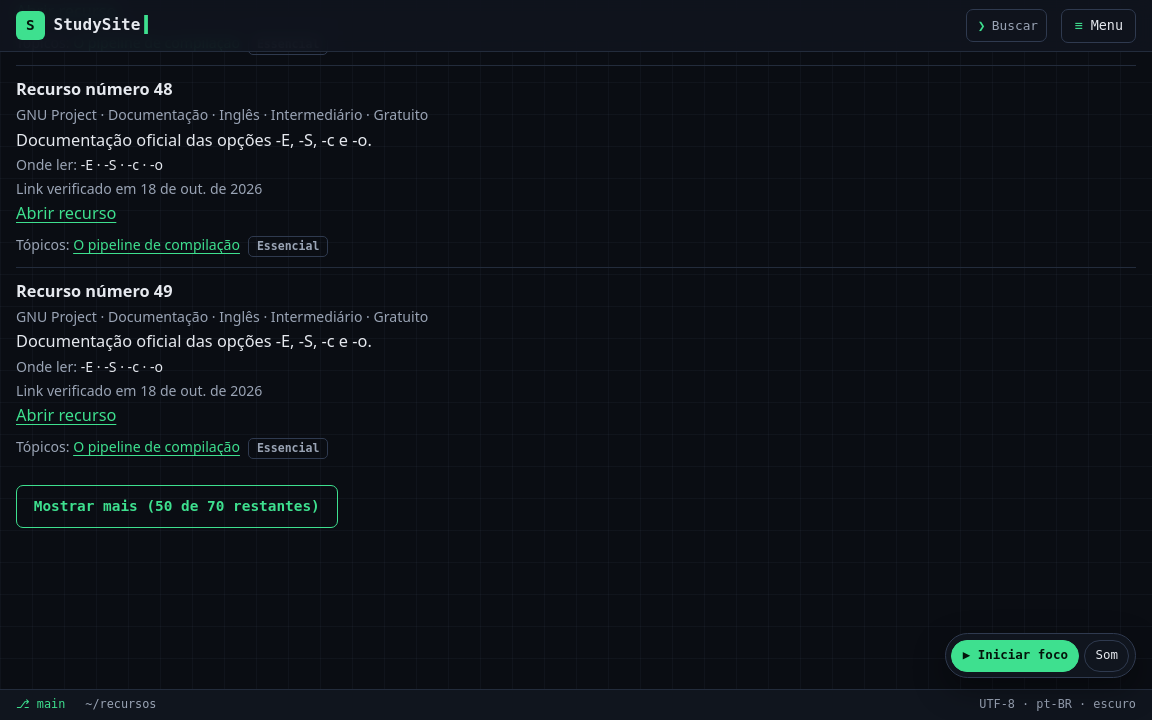
biblioteca de recursos — paginação › mostra 50 por vez e carrega mais sob demanda
(page scrolled)
Click the button "Mostrar mais (50 de 70 restantes)" at (177, 507), box [16,485,338,528]
(page scrolled)
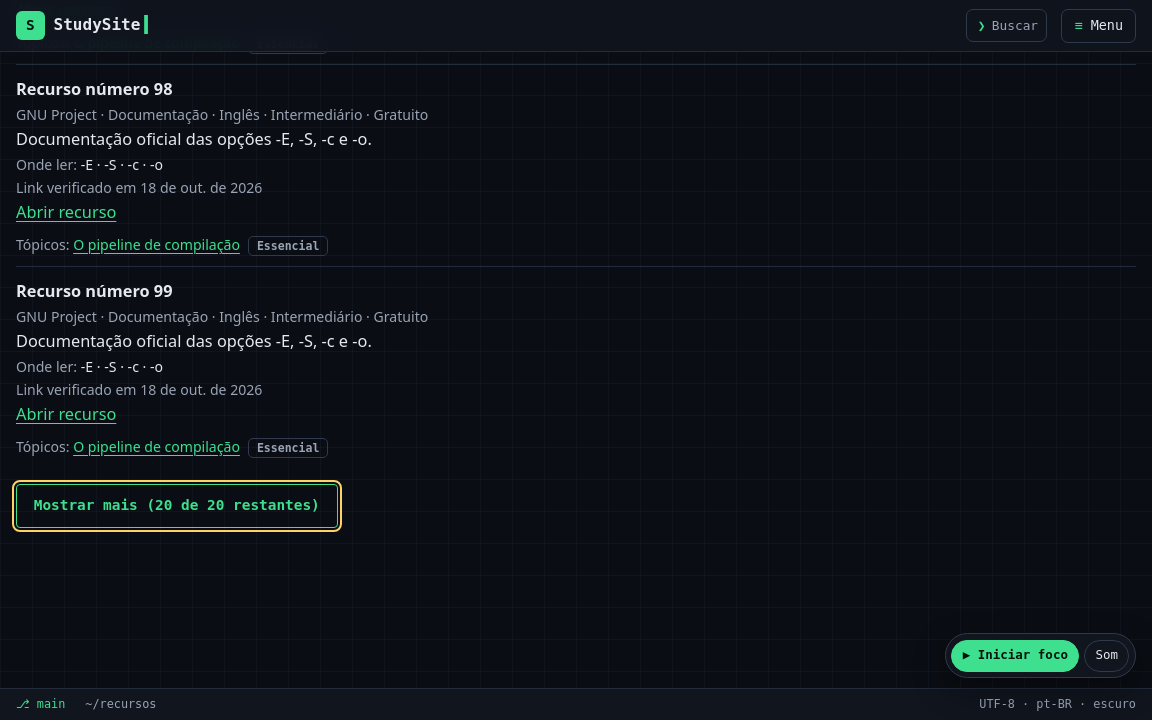
Expected: the text "Recurso número 99" is shown, [16,280,172,302]
Click the button "Mostrar mais (20 de 20 restantes)" at (177, 506), box [16,484,338,528]
(page scrolled)
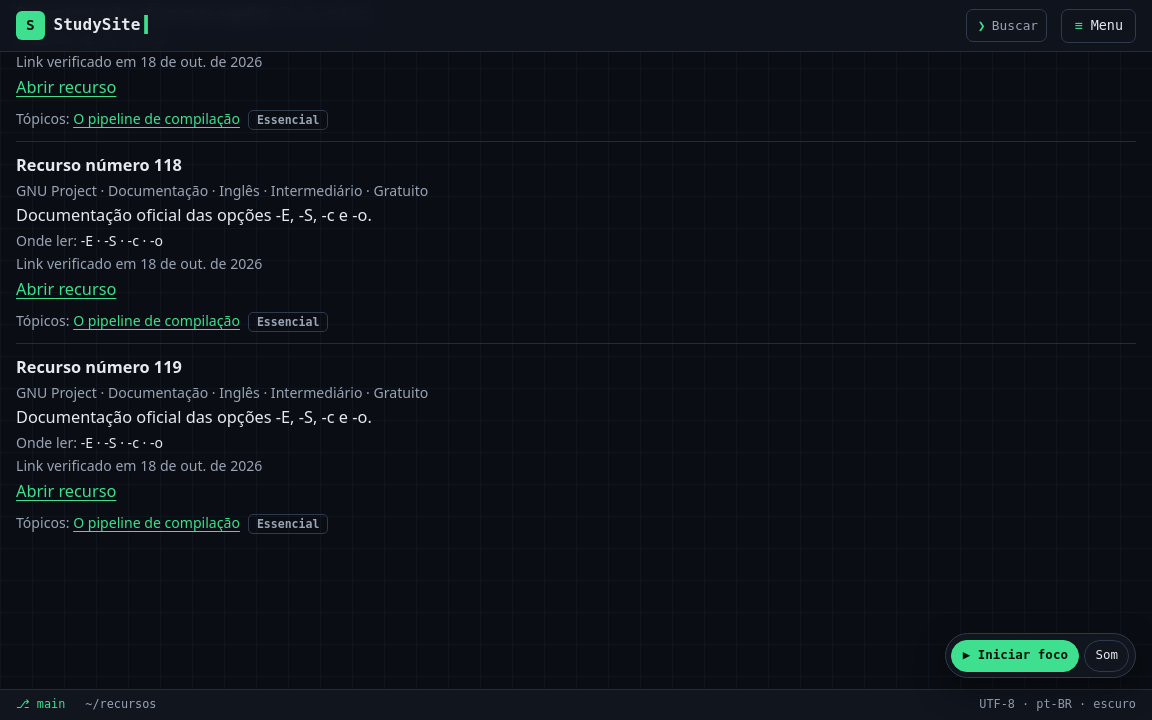
Expected: the text "Recurso número 119" is shown, [16,356,182,378]
Expected: the button "Mostrar mais" is gone
